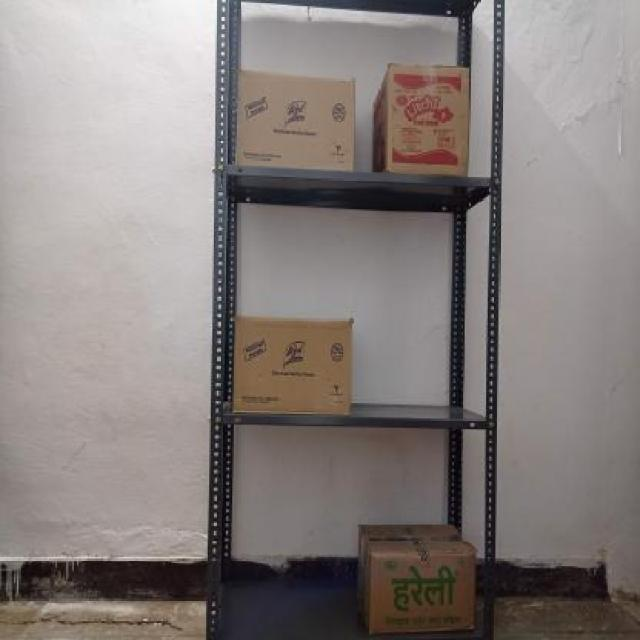box: (233, 317, 352, 419), (239, 75, 356, 165), (385, 64, 470, 175), (368, 553, 477, 632)
